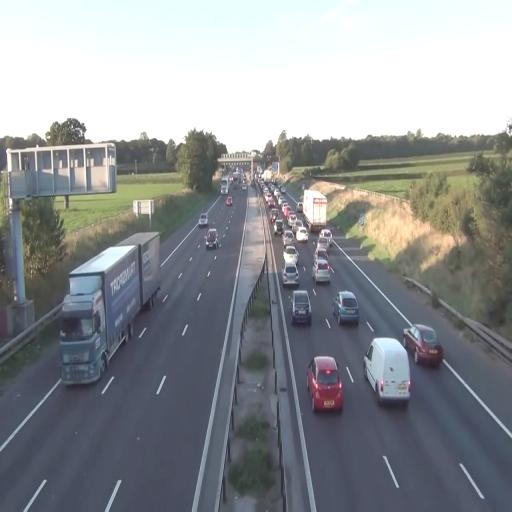vehicle: (59, 229, 162, 387), (364, 337, 412, 406), (306, 354, 344, 413), (403, 324, 443, 366), (302, 191, 328, 234), (333, 290, 359, 325), (291, 290, 311, 327), (282, 258, 300, 287), (314, 259, 333, 286), (294, 215, 309, 242), (294, 222, 310, 243), (205, 227, 219, 249), (283, 266, 299, 284), (198, 215, 209, 229)
